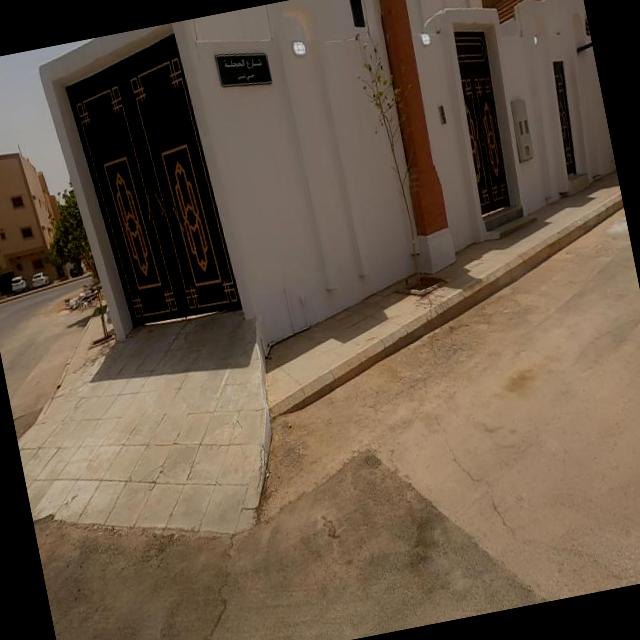debris: (36, 263, 118, 340)
